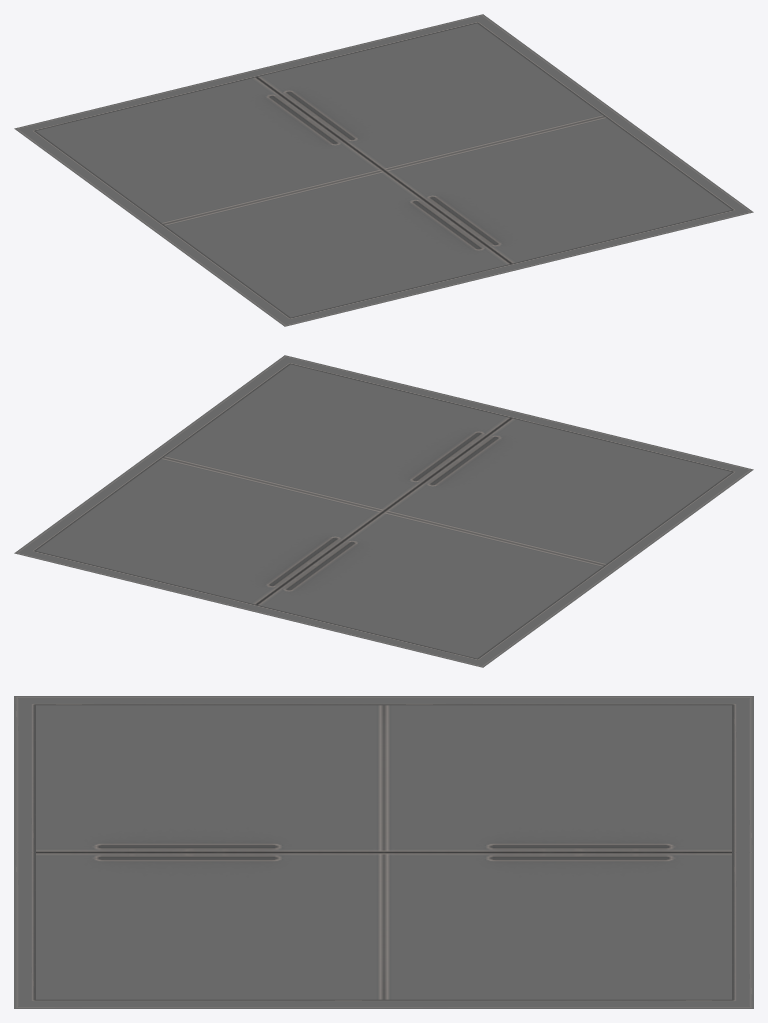
Rendered from floor-squares-Dezwm0tV.glb.
The picture shows the model from 3 angles, top to bottom: view 1: azimuth 30°, elevation 25°; view 2: azimuth 150°, elevation 25°; view 3: azimuth 270°, elevation 25°; orthographic projection. The views are drawn at different scales.
Visible parts, largest first — view 1: Platform_Squares; view 2: Platform_Squares; view 3: Platform_Squares.
Part boxes in pixels (x1,y1,x2,y2): Platform_Squares: [14, 14, 753, 326]; Platform_Squares: [14, 355, 753, 667]; Platform_Squares: [14, 696, 753, 1008].
Bounding box in the file's own units: 4 × 0 × 4.
Materials: 1 (1 with a texture image).
